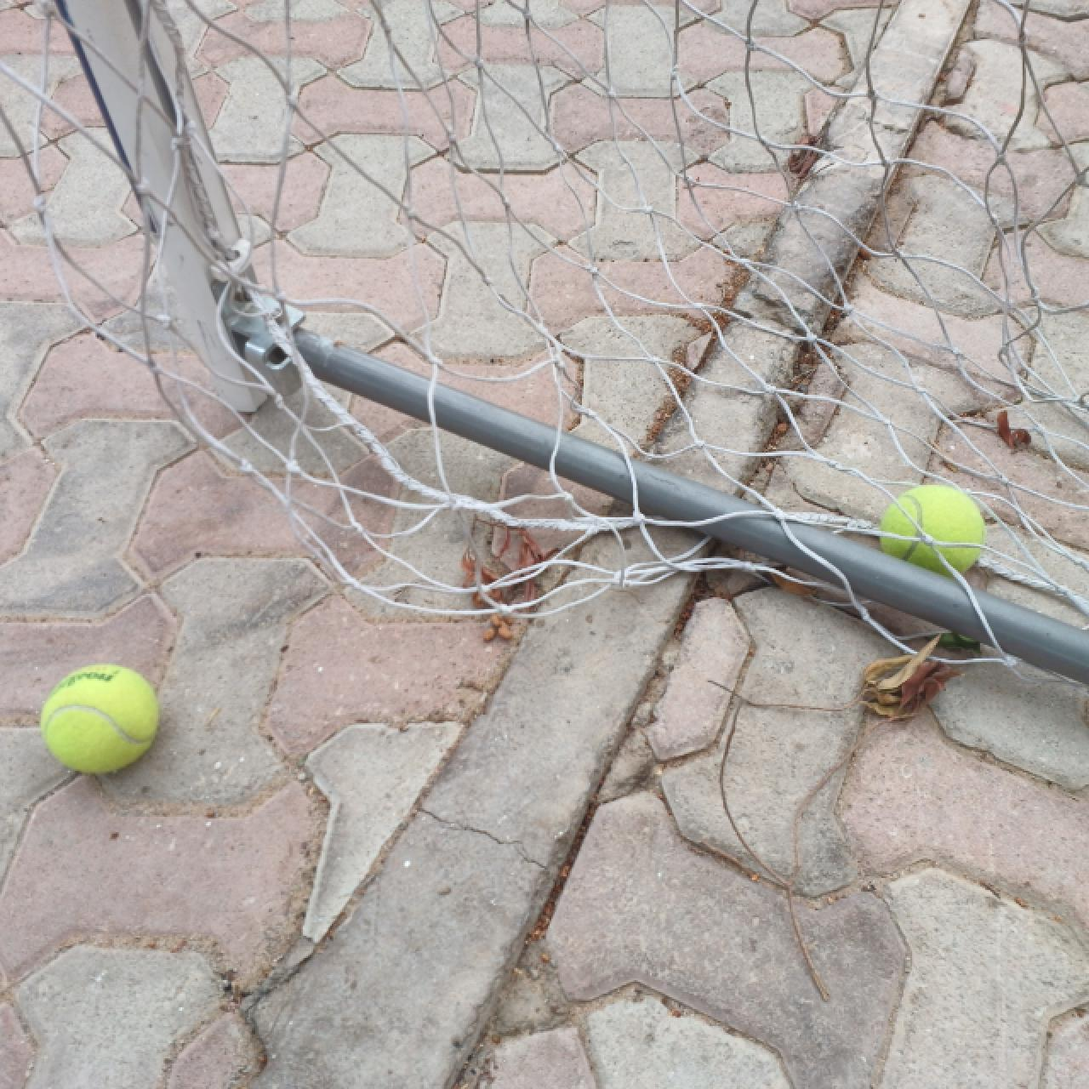tennis-ball: (40, 662, 160, 777), (880, 483, 985, 582)
